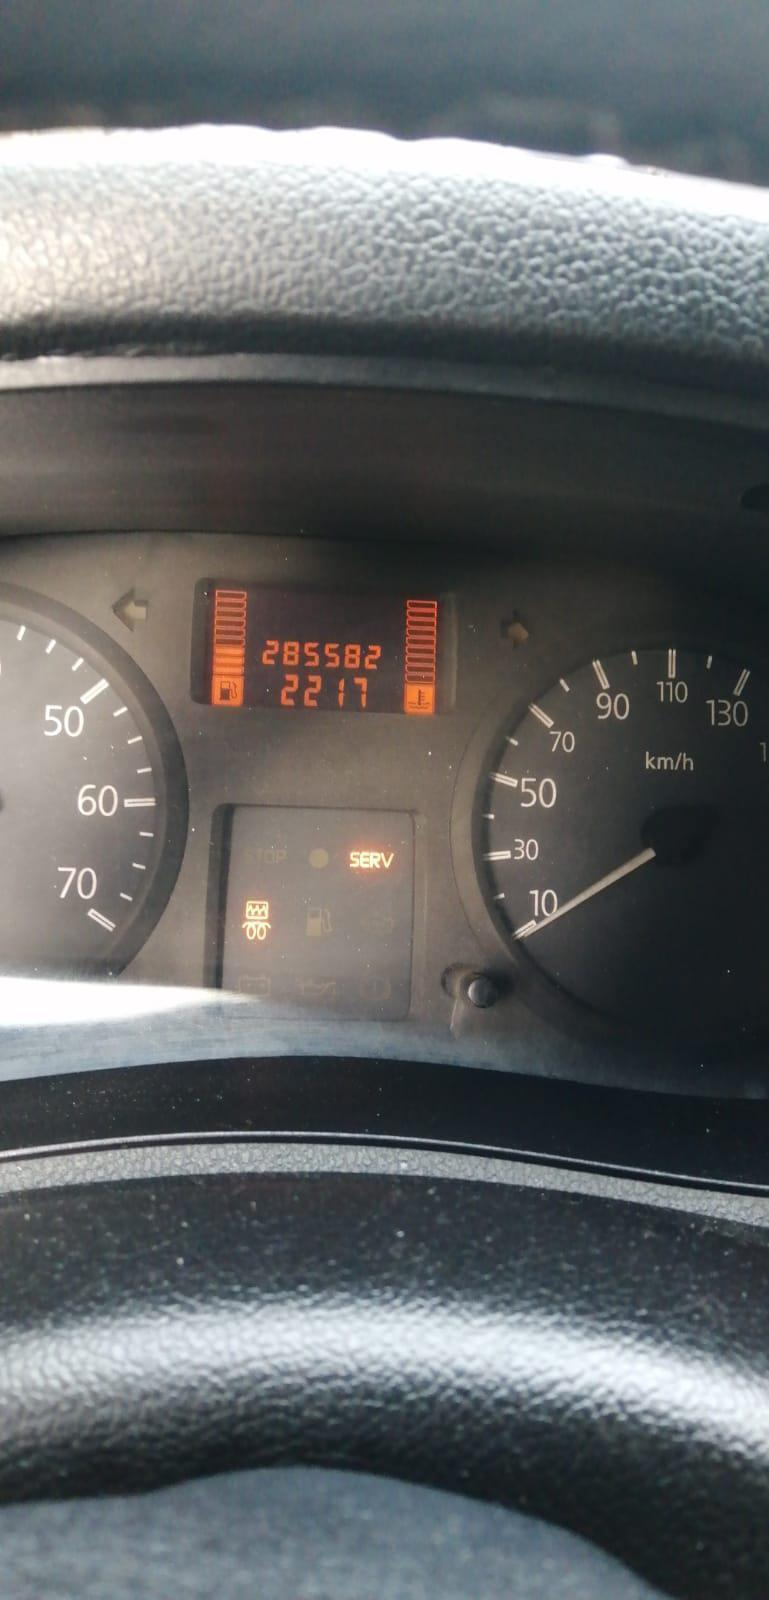1: (337, 678, 345, 707)
2: (303, 674, 322, 706), (279, 673, 299, 705), (261, 639, 279, 665), (364, 645, 382, 670)
5: (303, 642, 320, 667), (323, 642, 340, 667)
7: (352, 677, 368, 708)
8: (343, 643, 361, 669), (281, 641, 299, 666)
odometer: (206, 584, 446, 717)
